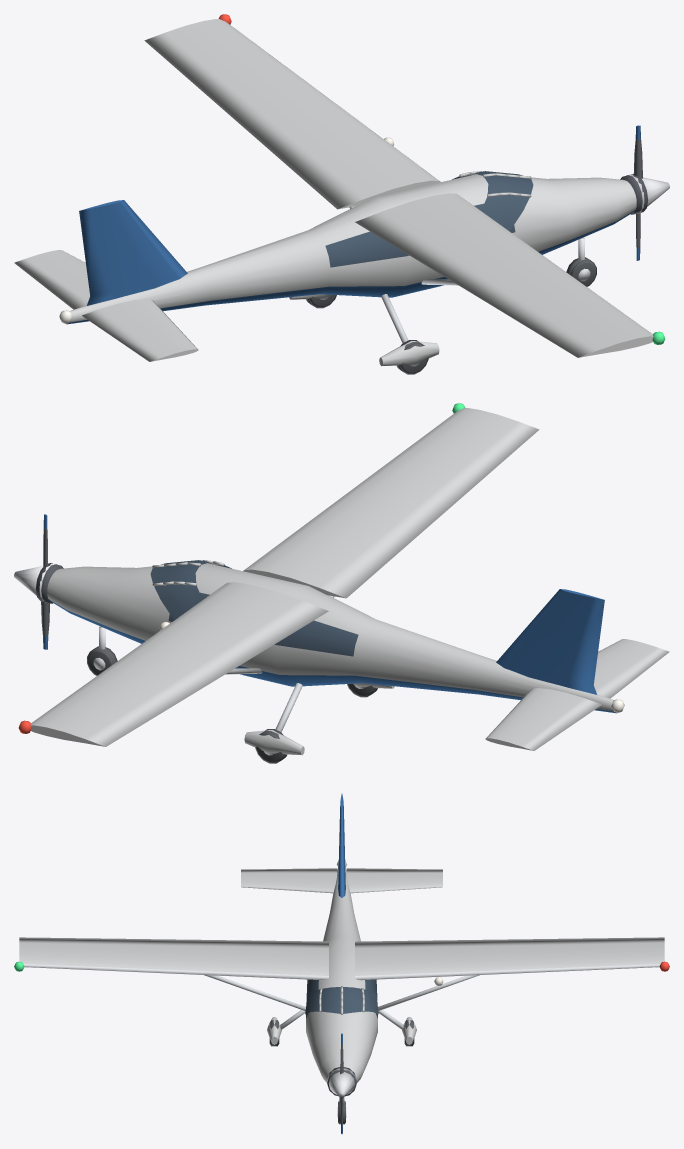
File: light.glb
3 renders of one model, top to bottom at view 1: azimuth 30°, elevation 25°; view 2: azimuth 150°, elevation 25°; view 3: azimuth 270°, elevation 25°, orthographic. The views are drawn at different scales.
Parts seen in each view (by area): view 1: BodyMesh, Gear, PropMain; view 2: BodyMesh, Gear, PropMain; view 3: BodyMesh, Gear, PropMain.
Boxes of the visible parts, <box> form: BodyMesh: <box>14,14,665,361</box>; Gear: <box>289,237,596,374</box>; PropMain: <box>620,125,669,260</box>; BodyMesh: <box>18,403,669,750</box>; Gear: <box>87,626,394,763</box>; PropMain: <box>14,514,63,649</box>; BodyMesh: <box>14,793,669,1082</box>; Gear: <box>267,1006,416,1124</box>; PropMain: <box>326,1033,357,1134</box>.
Size of the model in its own units: 8.91 by 2.79 by 11.18.
